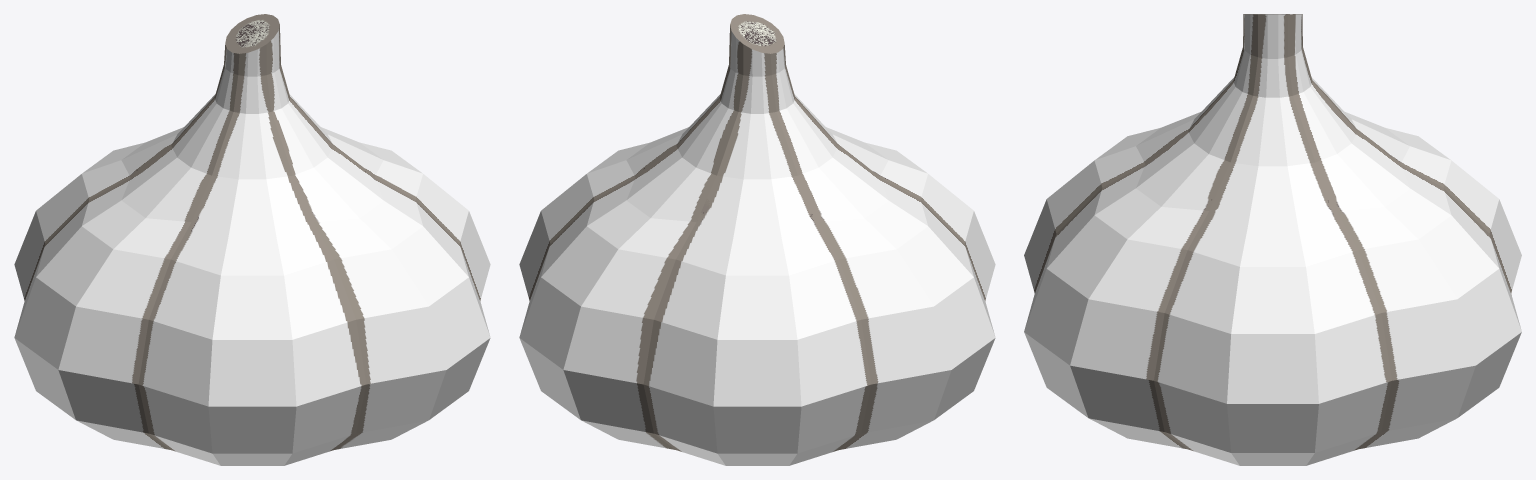
Rendered from SM_tsesnekch.fbx.
3 renders of one model, left to right at view 1: azimuth 30°, elevation 25°; view 2: azimuth 150°, elevation 25°; view 3: azimuth 270°, elevation 25°, orthographic. The views are drawn at different scales.
Parts seen in each view (by area): view 1: SM_tsesnekch; view 2: SM_tsesnekch; view 3: SM_tsesnekch.
Part boxes in pixels (x1,y1,x2,y2): SM_tsesnekch: (14,14,490,465); SM_tsesnekch: (519,14,995,465); SM_tsesnekch: (1024,14,1521,465).
Bounding box in the file's own units: 589 × 530 × 562.
